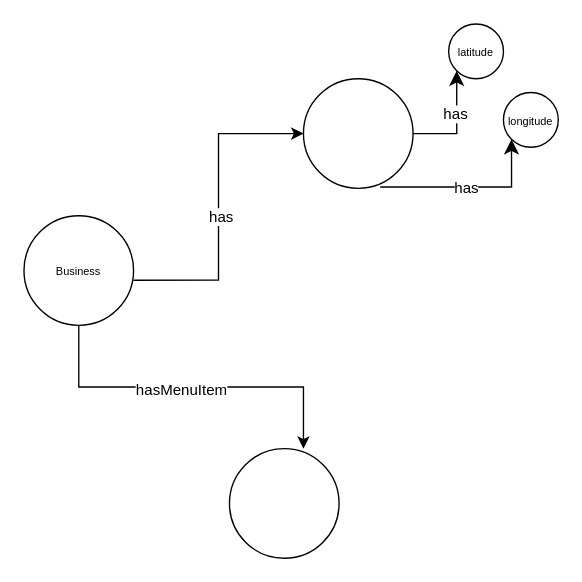
This 582x582 diagram has some shape labels left out. Each missing label, with the centre of its shape:
"GeoCoordinates" belongs at pixel 357 132.
"MenuItem" belongs at pixel 283 502.
